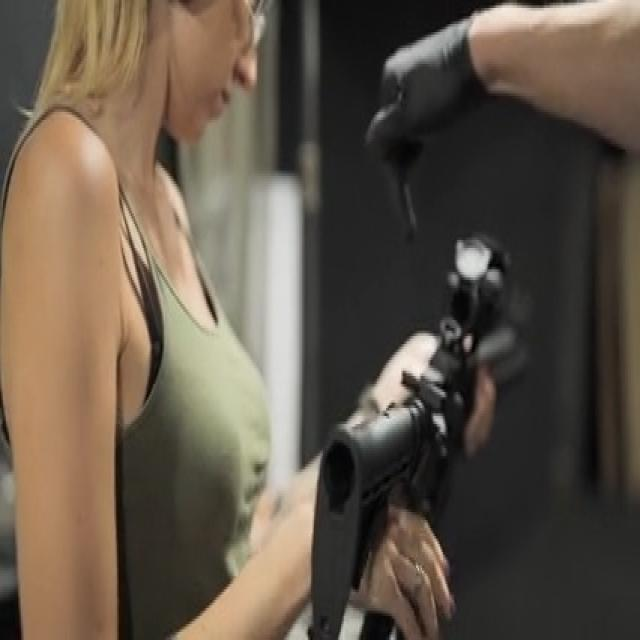Gun_Holder: (297, 212, 597, 640)
Person: (0, 0, 455, 640)
